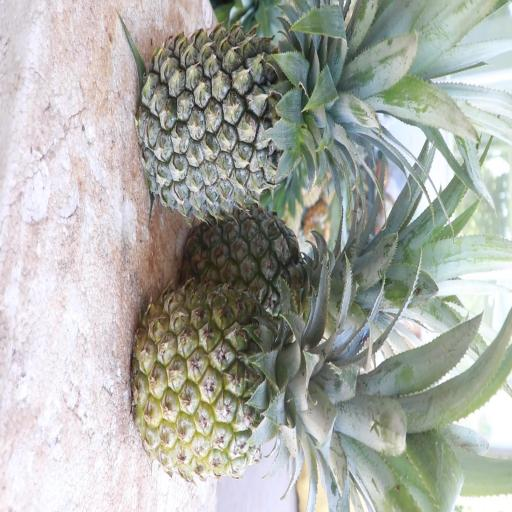------------------------------: (127, 272, 364, 486), (178, 202, 378, 352)
